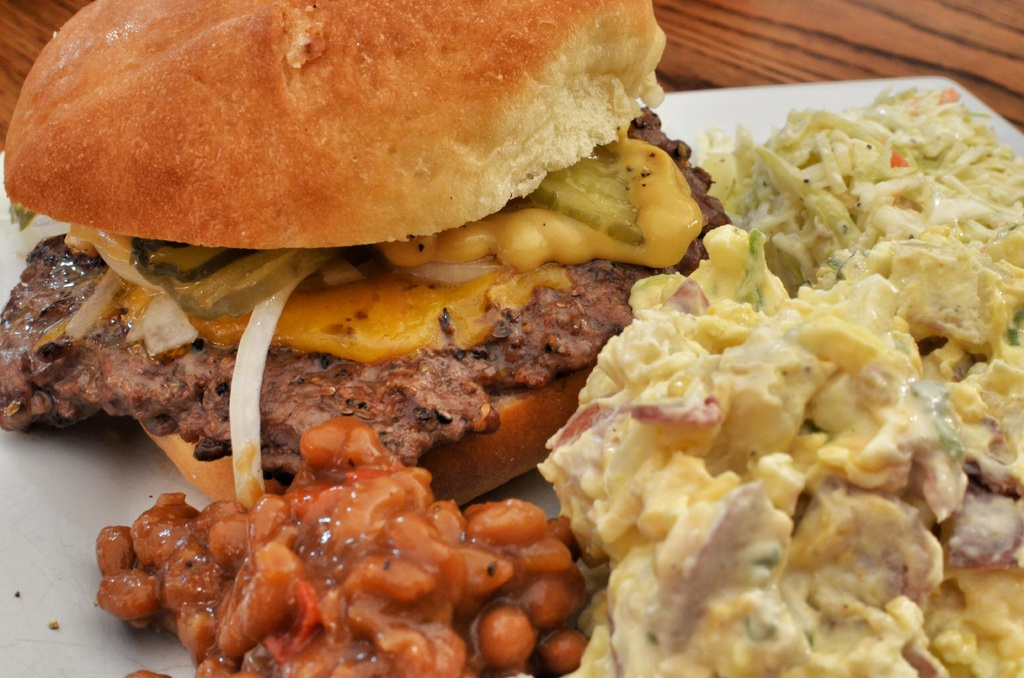Hamburger: (0, 0, 730, 503)
